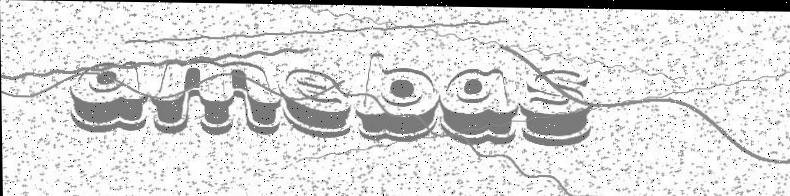a: (440, 65, 521, 145), (67, 59, 148, 134)
b: (353, 49, 441, 143)
e: (276, 67, 353, 138)
m: (152, 59, 282, 136)
s: (519, 67, 593, 146)
